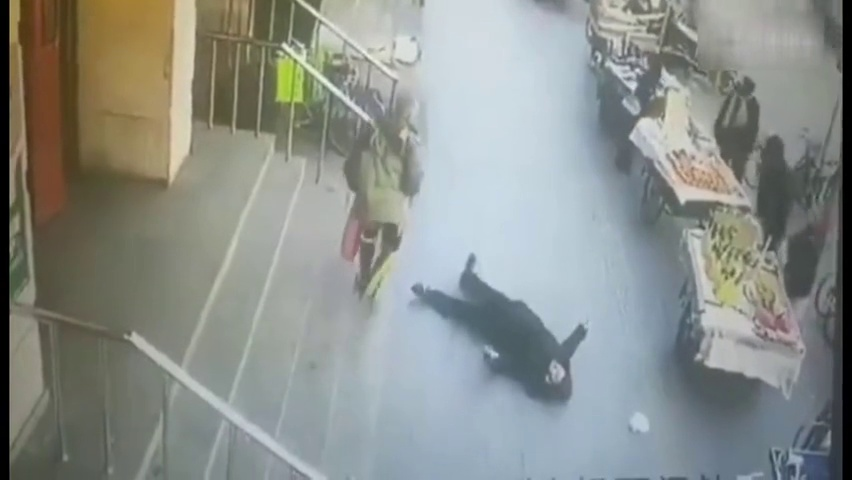fall: (419, 248, 591, 412)
nofall: (343, 90, 413, 308), (713, 71, 756, 177), (754, 138, 794, 249), (785, 214, 827, 309)
